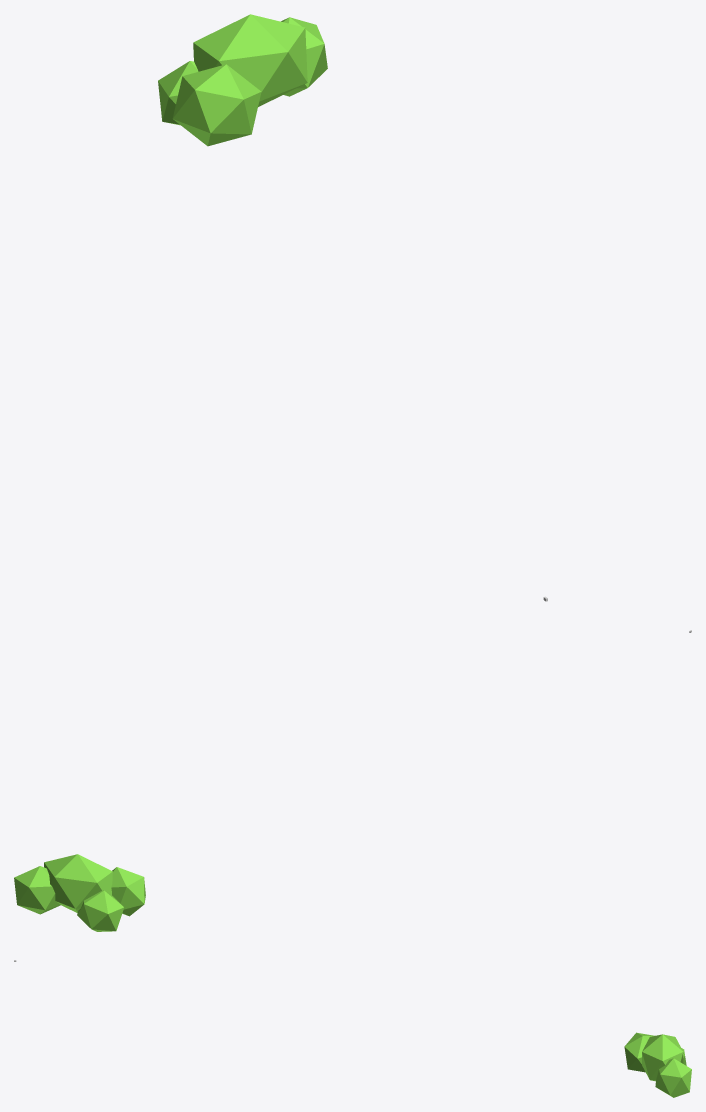
File: arbustos1.fbx
3 renders of one model, top to bottom at view 1: azimuth 30°, elevation 25°; view 2: azimuth 150°, elevation 25°; view 3: azimuth 270°, elevation 25°, orthographic. The views are drawn at different scales.
Visible parts, largest first — view 1: arbustos; view 2: arbustos; view 3: arbustos.
Boxes of the visible parts, x1,y1,x2,y2 form: arbustos: (158, 14, 327, 146); arbustos: (14, 854, 145, 931); arbustos: (624, 1032, 691, 1097).
Size of the model in its own units: 593 by 144 by 1588.
